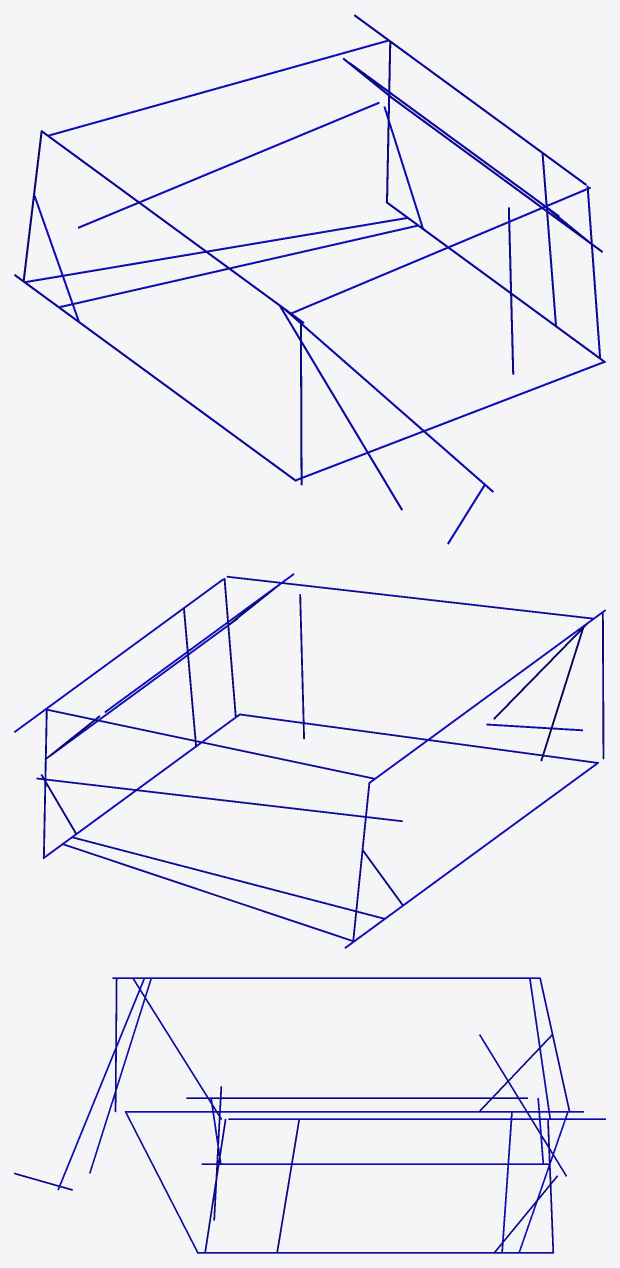
Rendered from corrected_3d_strokes.glb.
3 renders of one model, top to bottom at view 1: azimuth 30°, elevation 25°; view 2: azimuth 150°, elevation 25°; view 3: azimuth 270°, elevation 25°, orthographic. The views are drawn at different scales.
Parts seen in each view (by area): view 1: world; view 2: world; view 3: world.
Part boxes in pixels (box(x1,y1,x2,y2)): world: box(14, 14, 605, 544); world: box(14, 573, 605, 948); world: box(14, 977, 605, 1253).
Bounding box in the file's own units: 7.75 × 4.16 × 13.69.
